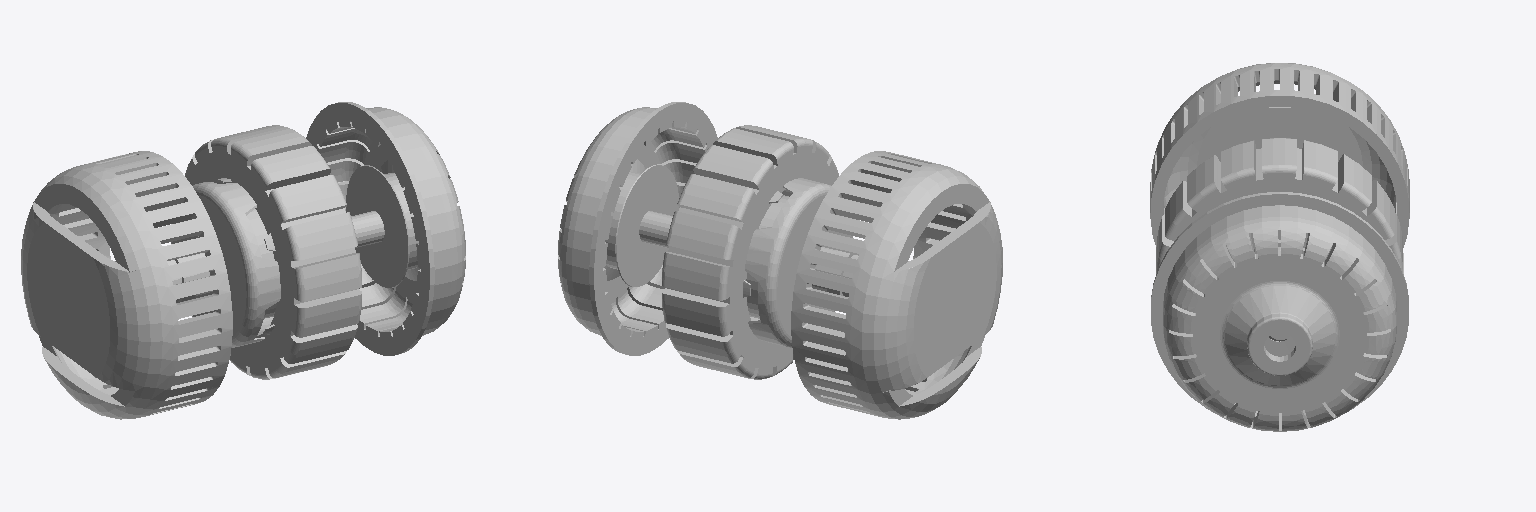
The model's file is Alternador_Obj.obj.
3 views of the same model, side by side, from view 1: azimuth 30°, elevation 25°; view 2: azimuth 150°, elevation 25°; view 3: azimuth 270°, elevation 25° (orthographic).
Visible parts, largest first — view 1: MeshBody10, MeshBody4, MeshBody2, MeshBody6, MeshBody1, MeshBody5, MeshBody8; view 2: MeshBody10, MeshBody4, MeshBody2, MeshBody6, MeshBody1, MeshBody5, MeshBody8; view 3: MeshBody2, MeshBody10, MeshBody4.
Boxes of the visible parts, x1=… form: MeshBody10: x1=21, y1=151, x2=232, y2=419; MeshBody4: x1=185, y1=125, x2=361, y2=379; MeshBody2: x1=306, y1=102, x2=465, y2=355; MeshBody6: x1=167, y1=182, x2=280, y2=347; MeshBody1: x1=346, y1=160, x2=419, y2=287; MeshBody5: x1=351, y1=211, x2=384, y2=247; MeshBody8: x1=247, y1=209, x2=276, y2=318; MeshBody10: x1=791, y1=151, x2=1002, y2=419; MeshBody4: x1=662, y1=125, x2=838, y2=379; MeshBody2: x1=558, y1=102, x2=717, y2=355; MeshBody6: x1=745, y1=178, x2=858, y2=347; MeshBody1: x1=604, y1=159, x2=678, y2=286; MeshBody5: x1=639, y1=211, x2=672, y2=247; MeshBody8: x1=746, y1=195, x2=788, y2=318; MeshBody2: x1=1151, y1=192, x2=1408, y2=431; MeshBody10: x1=1150, y1=63, x2=1409, y2=247; MeshBody4: x1=1156, y1=138, x2=1403, y2=273.
Size of the model in its own units: 13.99 by 8.4 by 8.4.